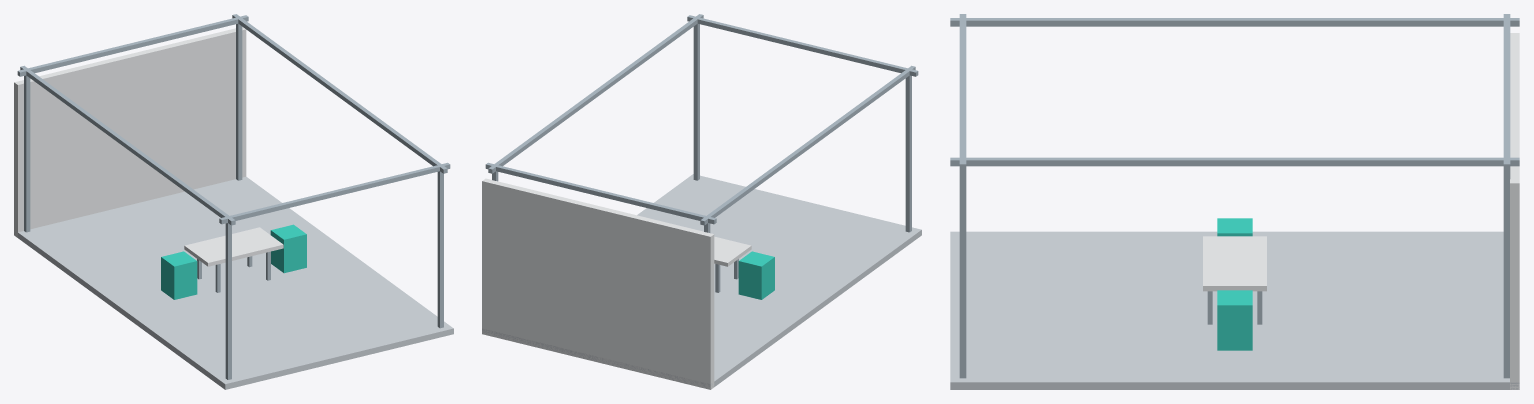
The picture shows the model from 3 angles, left to right: view 1: azimuth 30°, elevation 25°; view 2: azimuth 150°, elevation 25°; view 3: azimuth 270°, elevation 25°; orthographic projection. The views are drawn at different scales.
Visible parts, largest first — view 1: Exhibition Booth Concept; view 2: Exhibition Booth Concept; view 3: Exhibition Booth Concept.
Part boxes in pixels (<box>): Exhibition Booth Concept: <box>14,14,453,389</box>; Exhibition Booth Concept: <box>482,14,921,389</box>; Exhibition Booth Concept: <box>950,14,1519,389</box>.
Bounding box in the file's own units: 5 × 3.49 × 8.
